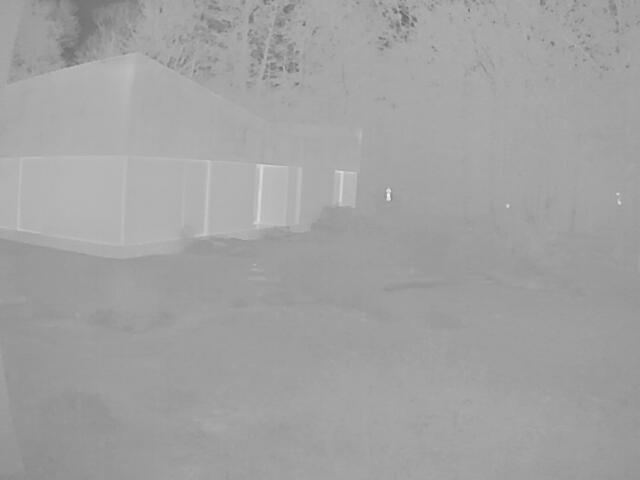person: (383, 186, 393, 202)
